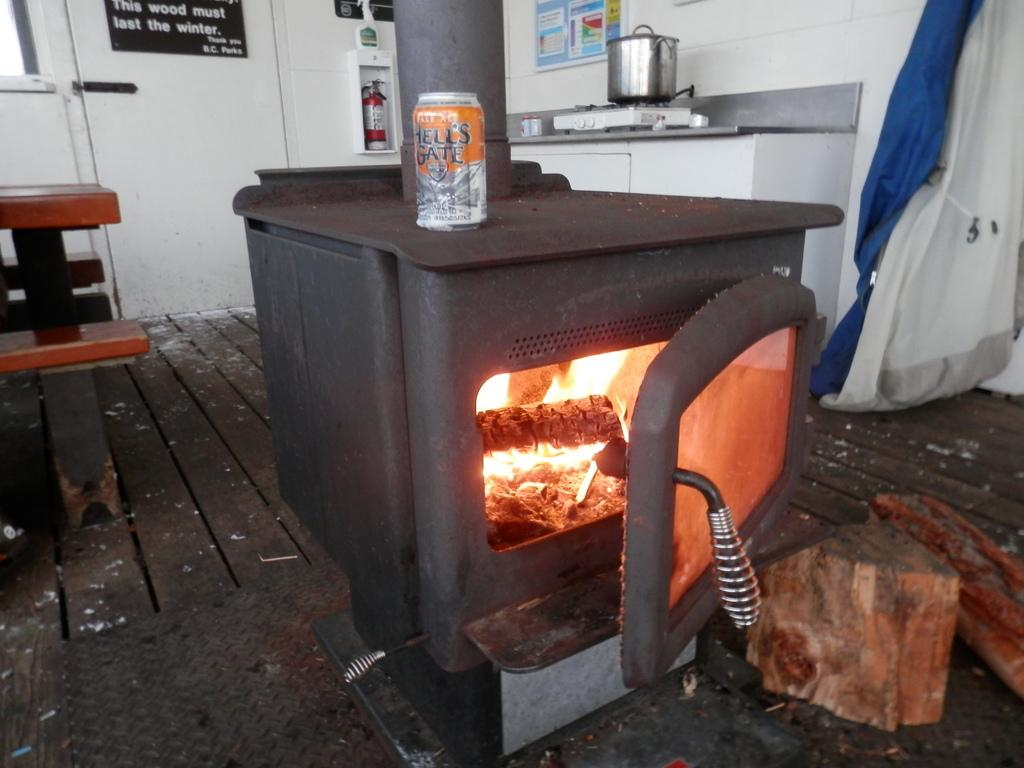Fire: (474, 367, 622, 529)
